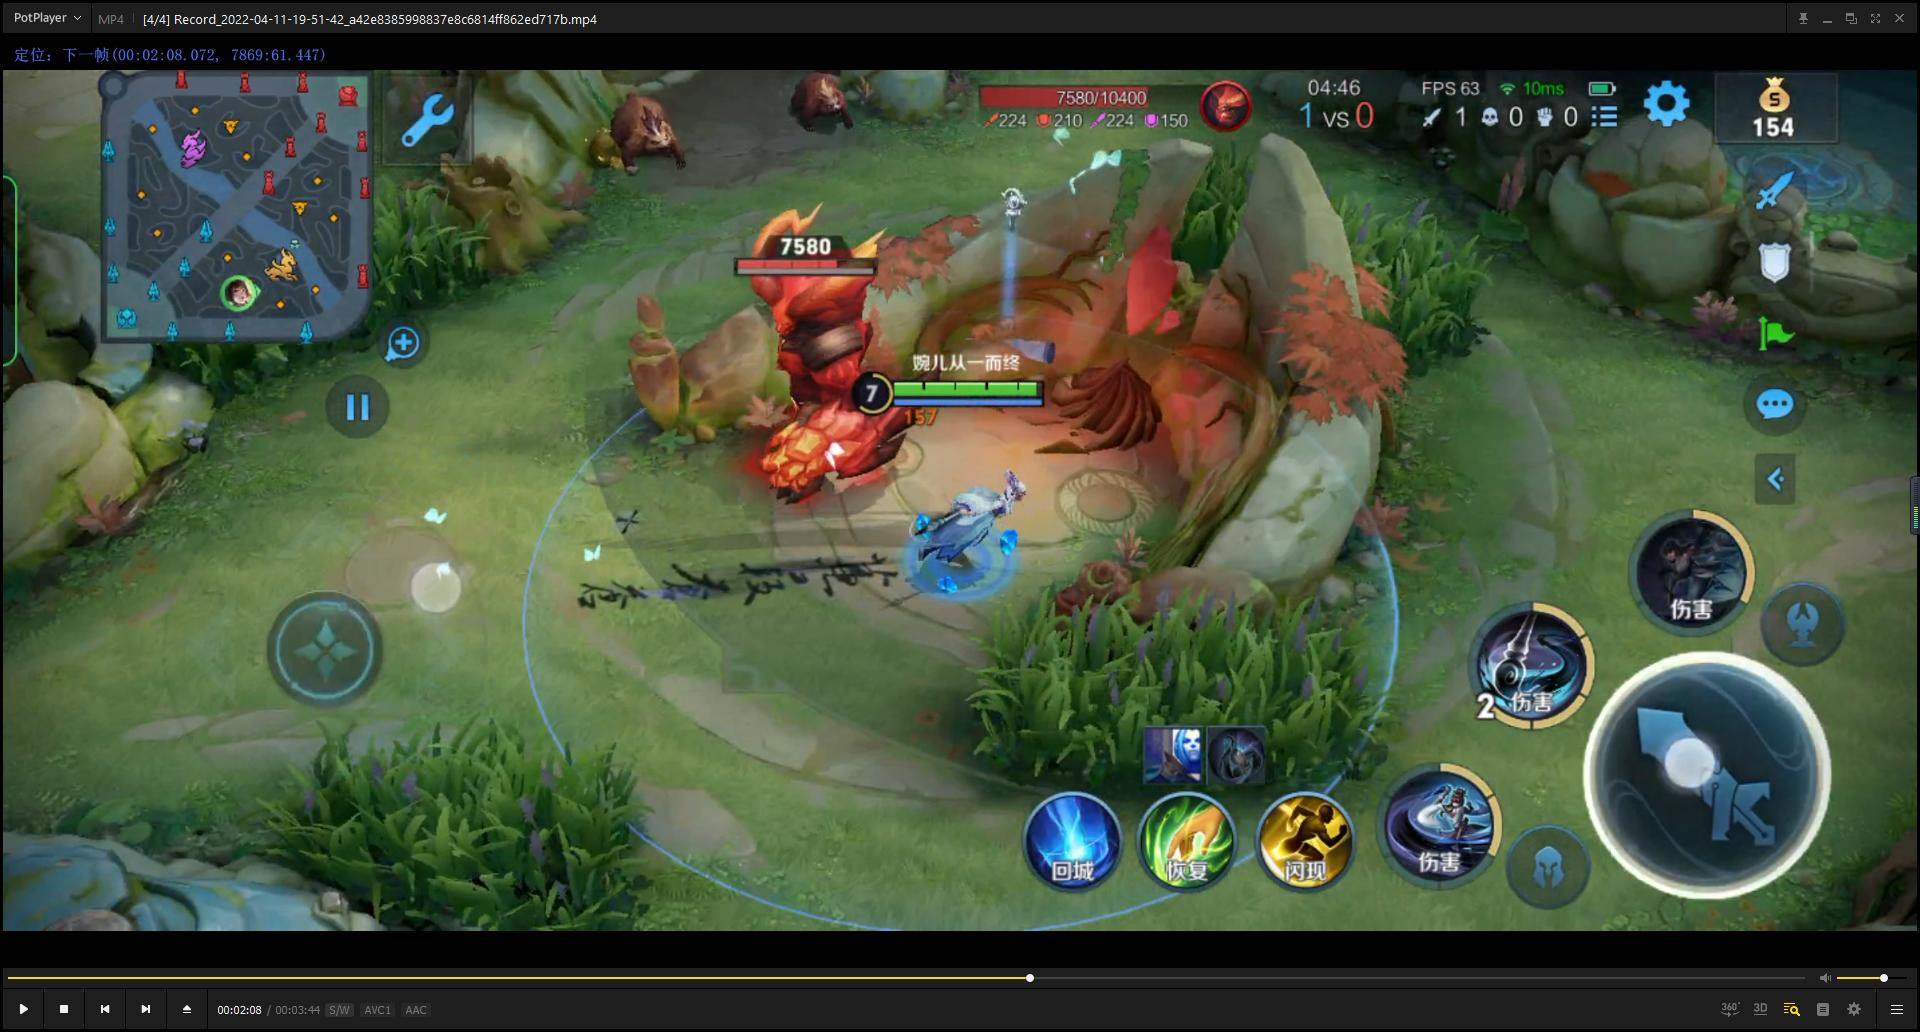Buff: (691, 214, 935, 524)
Hero: (879, 463, 1042, 600)
Pig: (591, 78, 687, 193), (795, 72, 851, 155)
